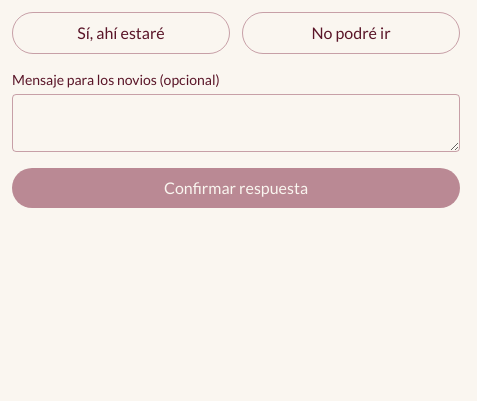
it: RsvpForm › confirmar asistencia muestra cupo de acompañantes y restricciones
What coordinates should you click on to do the following:
click the button "Sí, ahí estaré"
I would click on:
 (121, 33)
Its box is top-left (12, 12), bottom-right (230, 54).
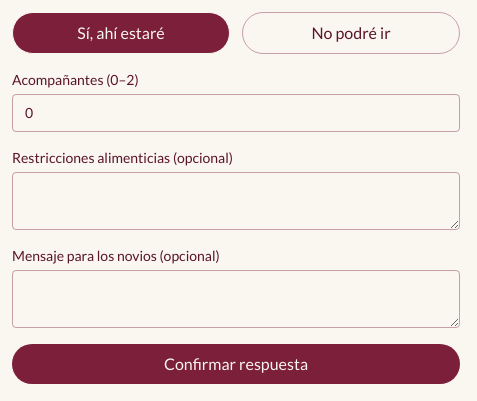
Expected: the text "Acompañantes (0–2)" is shown, top-left (12, 70), bottom-right (460, 132)
Expected: the text "Restricciones alimenticias (opcional)" is shown, top-left (12, 148), bottom-right (460, 230)
